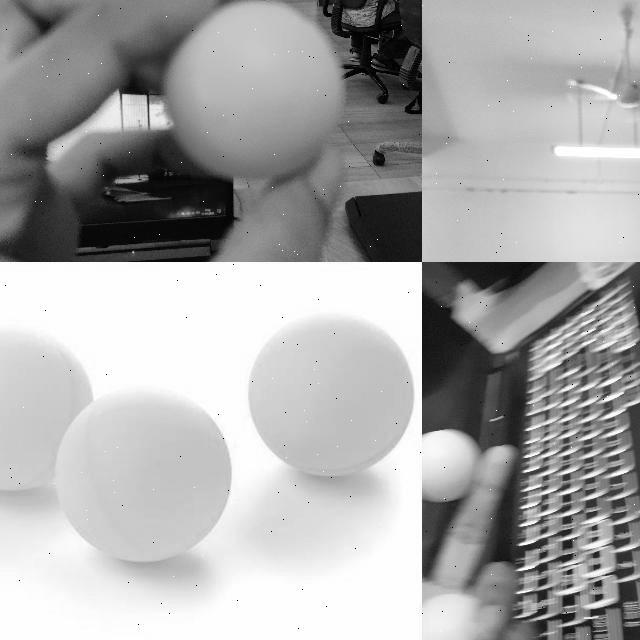ping-pong-ball: (163, 0, 347, 183), (56, 390, 230, 560), (248, 309, 412, 476), (0, 323, 95, 498), (422, 427, 482, 499), (422, 592, 483, 639)
